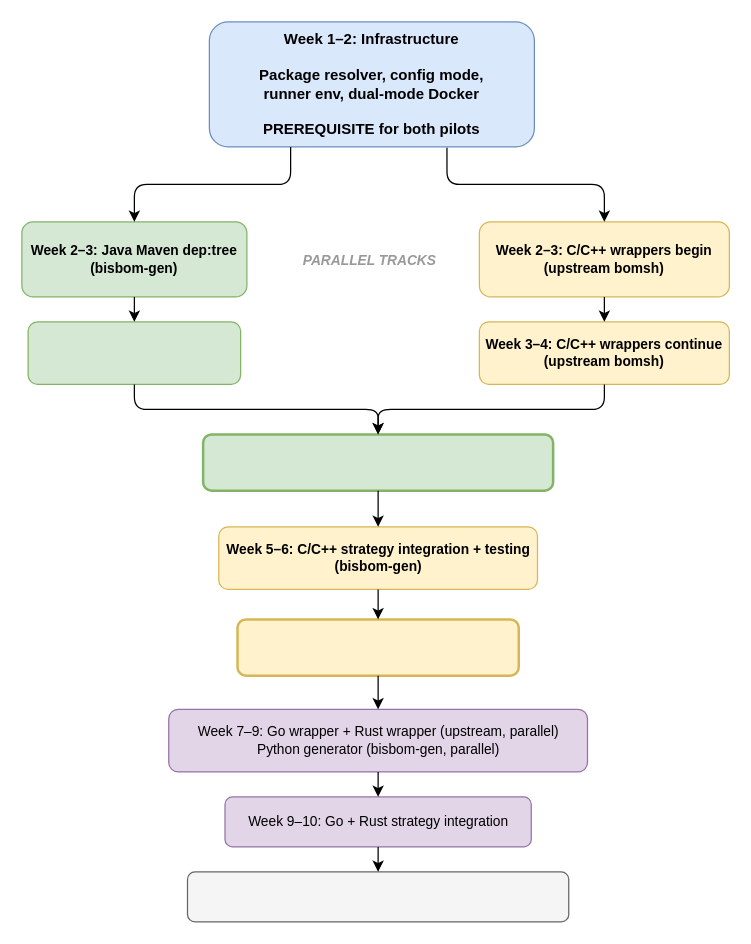
Some shapes in this 751 by 944 pixel diagram are drawn without their labels. Here are the shapes that lost their labels. From the top down, the box of each, then its label:
(27, 321, 241, 384): Week 3–4: Java RHEL integration testing
(201, 432, 554, 491): Week 4: Java pilot on RHEL — READY
(236, 618, 519, 676): Week 6–7: C/C++ pilot — READY
(186, 871, 569, 922): Week 11–14: Go Phase B, ARM64, production hardening
